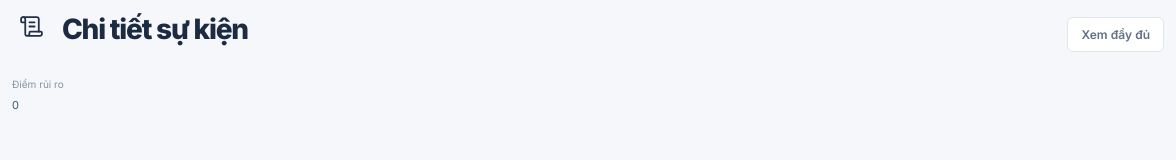
Test: native Proxy UI integration › has one title action and restores full fields without losing zero
The width and height of the screenshot is (1176, 160).
Expected: the text "0" is shown, [12, 98, 19, 112]
Expected: the text "test-request" is not shown
Click the button "Xem đầy đủ".
click(1116, 34)  # box [1068, 17, 1164, 52]
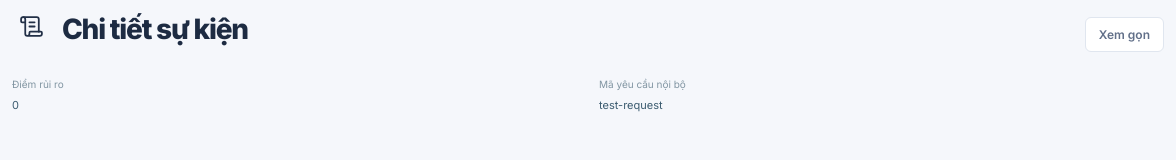
Expected: the number of buttons "Xem gọn" is 1, [1085, 17, 1164, 52]
Now the text "test-request" is shown, box [599, 98, 663, 112]
